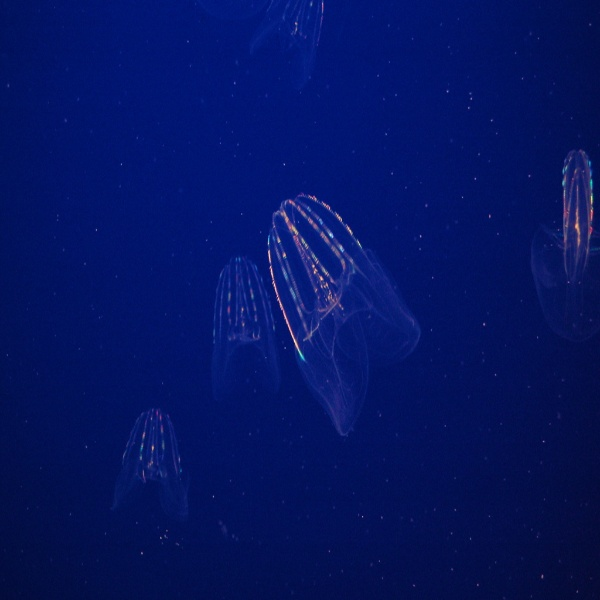Jellyfish: (265, 186, 421, 436), (528, 146, 599, 334), (211, 250, 286, 406), (117, 409, 190, 527)
